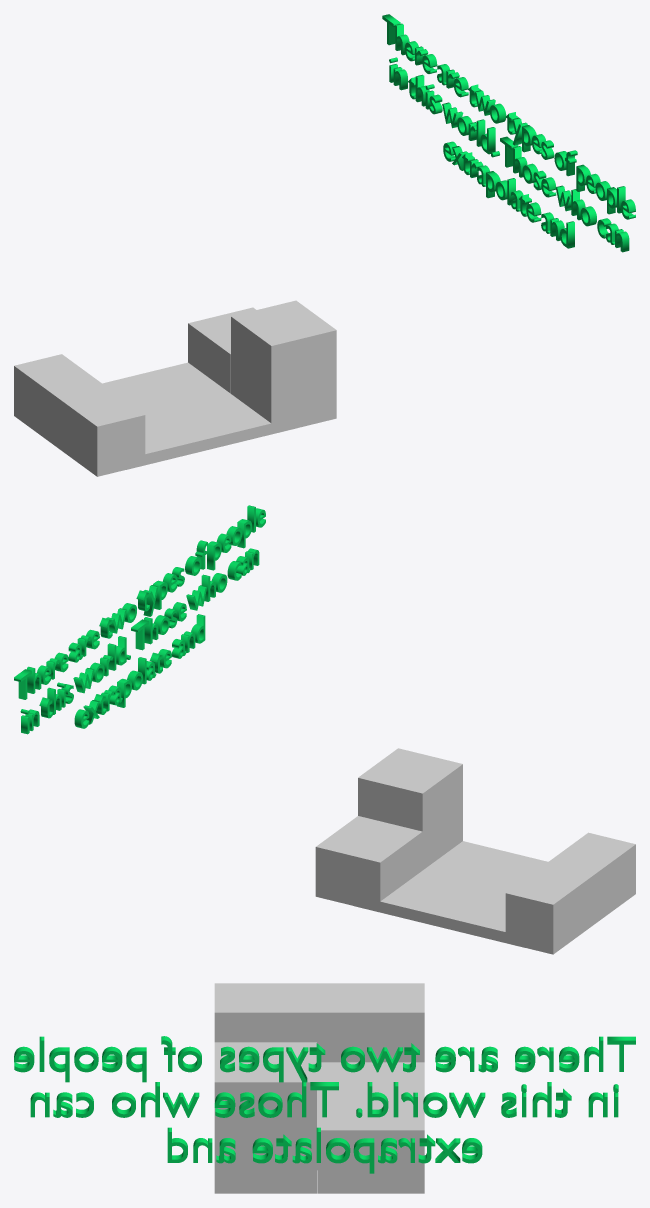
The model's file is level2-buoZk7Ii.glb.
The picture shows the model from 3 angles, top to bottom: view 1: azimuth 30°, elevation 25°; view 2: azimuth 150°, elevation 25°; view 3: azimuth 270°, elevation 25°; orthographic projection. The views are drawn at different scales.
Parts seen in each view (by area): view 1: Text_X, Cube.001, Cube.003, Cube, Cube.002; view 2: Text_X, Cube.003, Cube, Cube.001, Cube.002; view 3: Text_X, Cube.003, Cube.001, Cube.002, Cube.
Part boxes in pixels (<box>): Text_X: <box>382,14,635,252</box>; Cube.001: <box>231,300,336,434</box>; Cube.003: <box>14,354,145,476</box>; Cube: <box>102,362,271,469</box>; Cube.002: <box>188,307,255,393</box>; Text_X: <box>14,505,265,734</box>; Cube.003: <box>505,832,635,954</box>; Cube: <box>353,841,547,947</box>; Cube.001: <box>358,748,462,869</box>; Cube.002: <box>315,816,422,911</box>; Text_X: <box>14,1036,635,1173</box>; Cube.003: <box>214,983,424,1062</box>; Cube.001: <box>214,1042,316,1193</box>; Cube.002: <box>317,1090,424,1193</box>; Cube: <box>317,1062,424,1169</box>.
Size of the model in its own units: 53.14 by 25.33 by 49.48.
